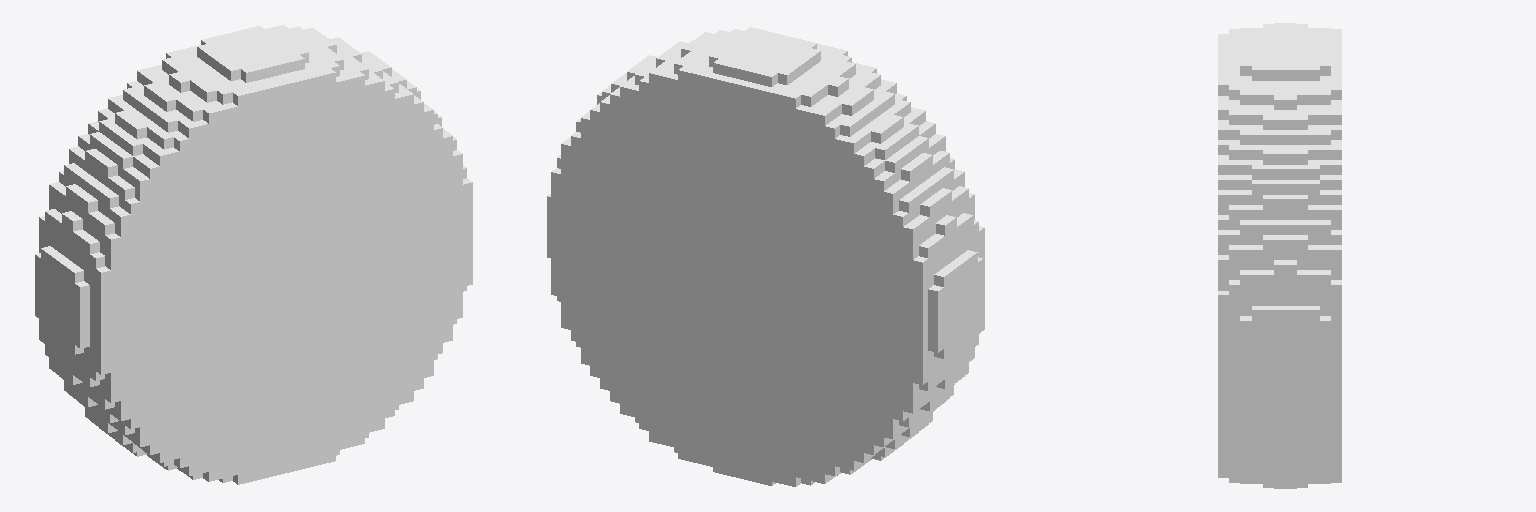
File: Mato.obj
3 renders of one model, left to right at view 1: azimuth 30°, elevation 25°; view 2: azimuth 150°, elevation 25°; view 3: azimuth 270°, elevation 25°, orthographic.
Parts seen in each view (by area): view 1: object 1; view 2: object 1; view 3: object 1.
Part boxes in pixels (x1,y1,x2,y2): object 1: (35, 25, 472, 484); object 1: (547, 27, 984, 486); object 1: (1218, 23, 1341, 488).
Bounding box in the file's own units: 4 × 4 × 1.1.